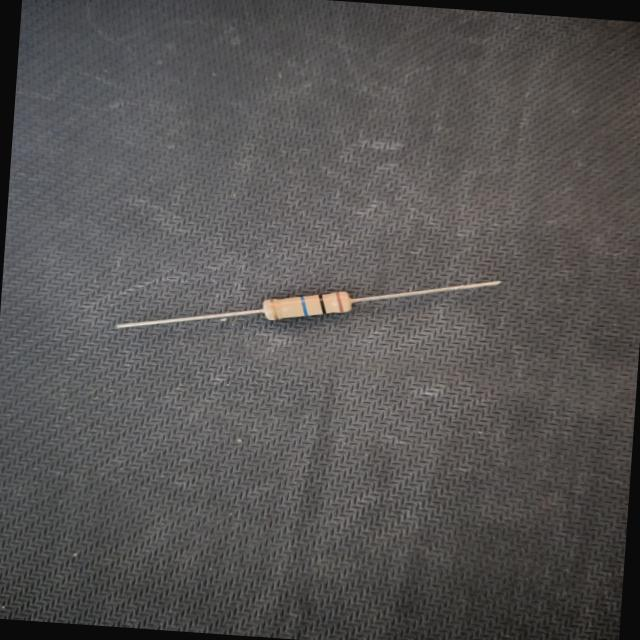resistor: (84, 239, 522, 385)
